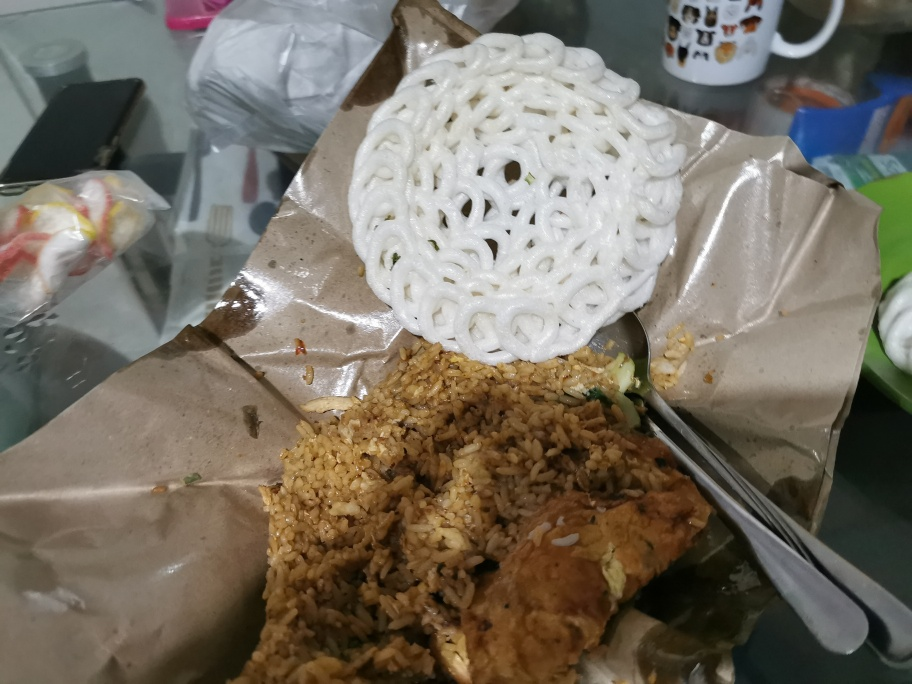kerupuk: (348, 32, 684, 363)
nasi goreng: (240, 353, 707, 684)
